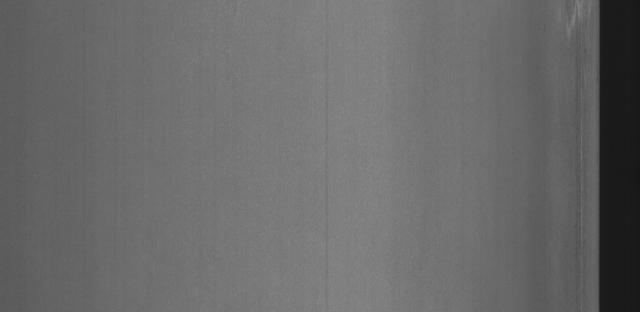silk_spot: (553, 0, 597, 72)
